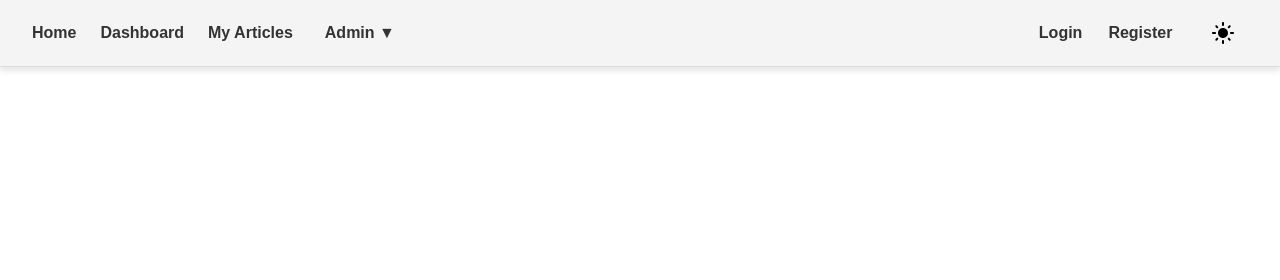
Navbar UI Tests › toggles admin dropdown
This screenshot has width=1280, height=280.
// Click Admin dropdown button
Click the button "Admin ▼" at coordinates (360, 33), box [317,16,403,50]
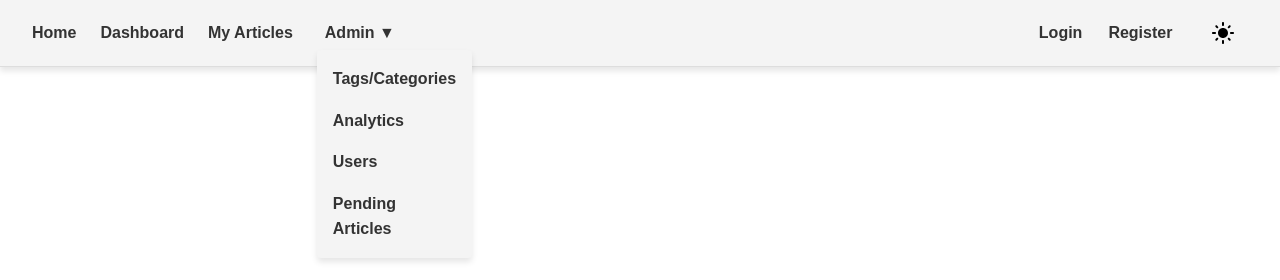
Check: the link "Tags/Categories" is shown, box [333,70,456,87]
Check: the link "Analytics" is shown, box [333,112,404,129]
Check: the link "Users" is shown, box [333,153,377,170]
// Click outside to close
Move the pointer off the button "Admin ▼", box [317,16,403,50]
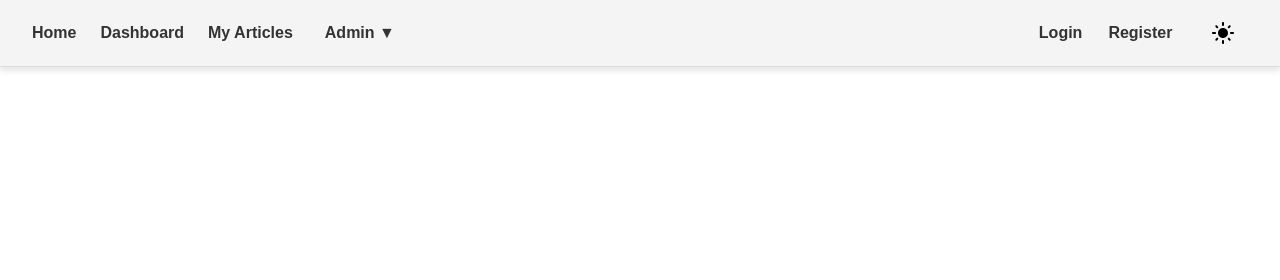
Check: the link "Tags/Categories" is gone
